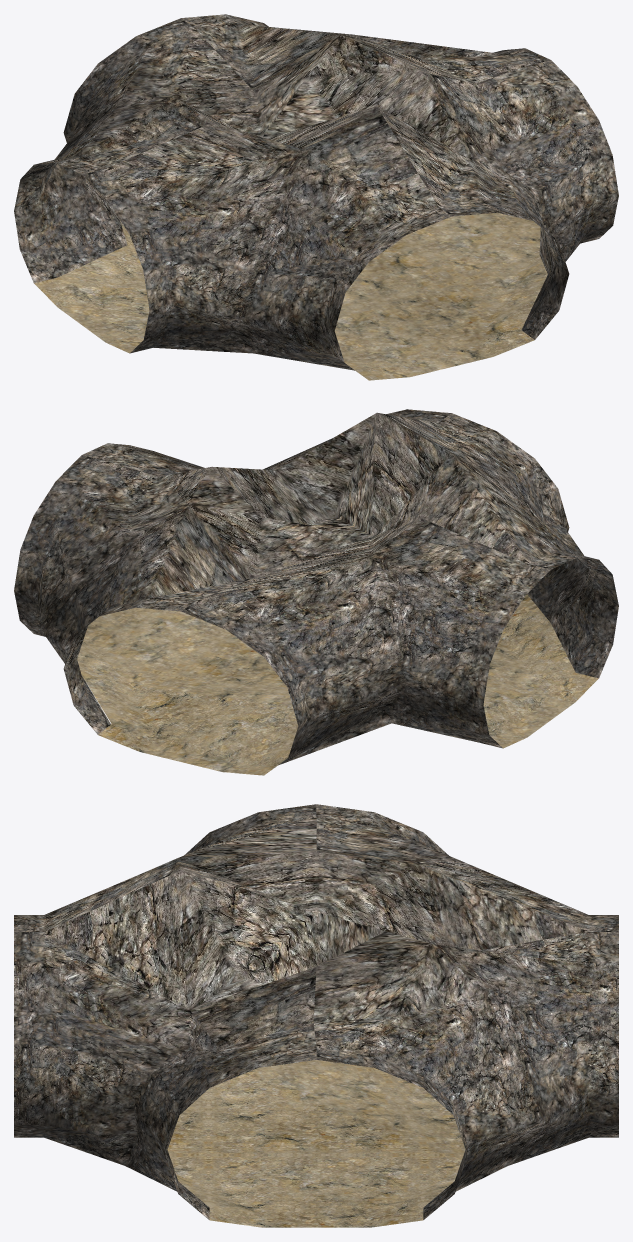
The model's file is pir_m_are_cav_fourway100.fbx.
3 views of the same model, one above another, from view 1: azimuth 30°, elevation 25°; view 2: azimuth 150°, elevation 25°; view 3: azimuth 270°, elevation 25° (orthographic). The views are drawn at different scales.
Visible parts, largest first — view 1: fourway100_wall, fourway100_floor; view 2: fourway100_wall, fourway100_floor; view 3: fourway100_wall, fourway100_floor.
Boxes of the visible parts, x1=… form: fourway100_wall: x1=14, y1=14, x2=618, y2=370; fourway100_floor: x1=34, y1=212, x2=547, y2=380; fourway100_wall: x1=14, y1=409, x2=618, y2=765; fourway100_floor: x1=77, y1=594, x2=598, y2=775; fourway100_wall: x1=14, y1=804, x2=618, y2=1219; fourway100_floor: x1=167, y1=1060, x2=465, y2=1227.
Size of the model in its own units: 10000 by 4219 by 10000.
Materials: 2 (2 with a texture image).
